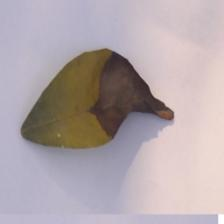black spot: (92, 36, 177, 147)
